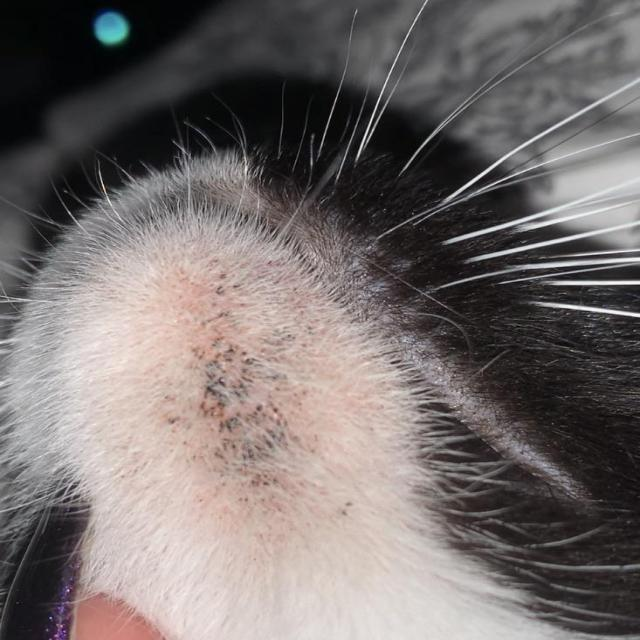cat-dermatitis: (169, 273, 278, 410), (212, 419, 294, 477)
